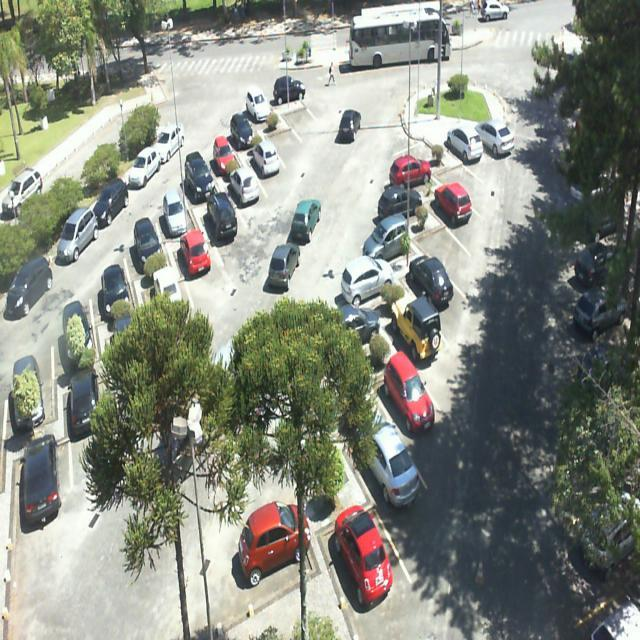space-empty: (416, 205, 469, 274), (437, 147, 489, 200), (265, 107, 303, 157), (282, 88, 318, 134), (399, 126, 442, 159)
space-occupied: (322, 488, 402, 620), (235, 500, 324, 608), (351, 401, 425, 521), (386, 287, 451, 382), (374, 355, 440, 444), (405, 251, 459, 328), (339, 250, 398, 310), (94, 245, 136, 324), (426, 173, 478, 236), (356, 215, 414, 266), (368, 176, 426, 226), (126, 214, 167, 279), (181, 222, 220, 290), (158, 180, 196, 242), (204, 189, 243, 248), (229, 159, 267, 218), (380, 150, 434, 190), (449, 122, 492, 168), (205, 125, 240, 179), (225, 105, 261, 156), (183, 151, 218, 202), (248, 134, 285, 182), (245, 87, 276, 132)
